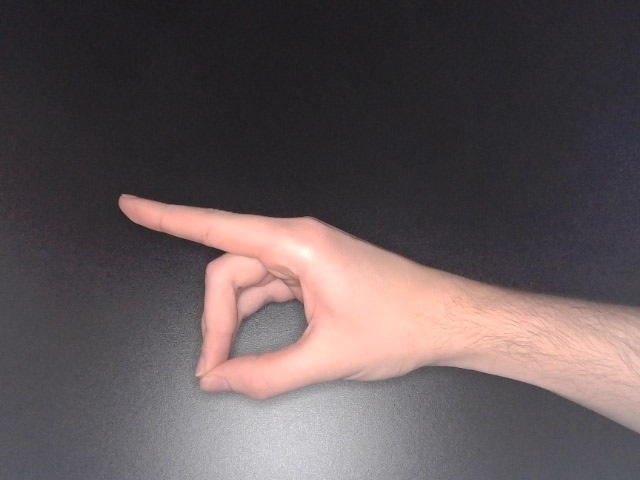p: (114, 190, 466, 405)
